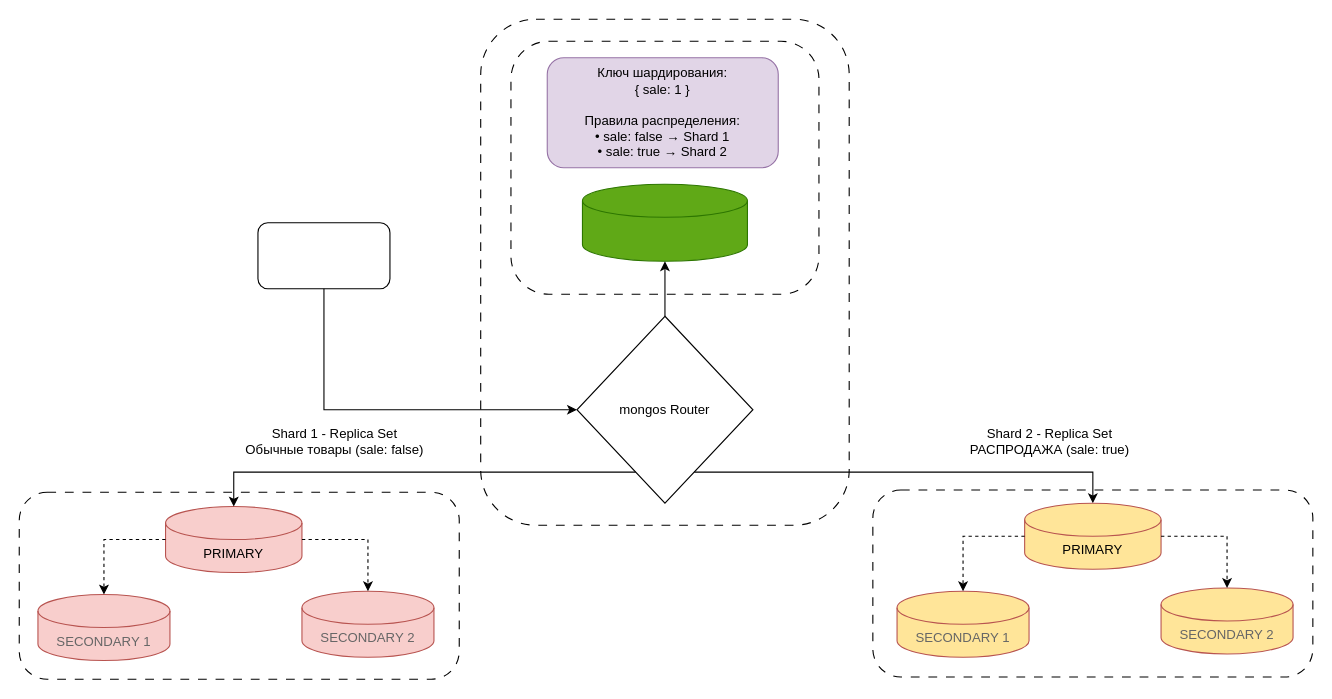
Some shapes in this 1332 by 699 pixel diagram are drawn without their labels. The box of each missing label's shape, as (x1, y1, x2, y2) in pixels:
Config Server: (581, 183, 747, 261)
pymongo-api: (257, 222, 390, 289)
